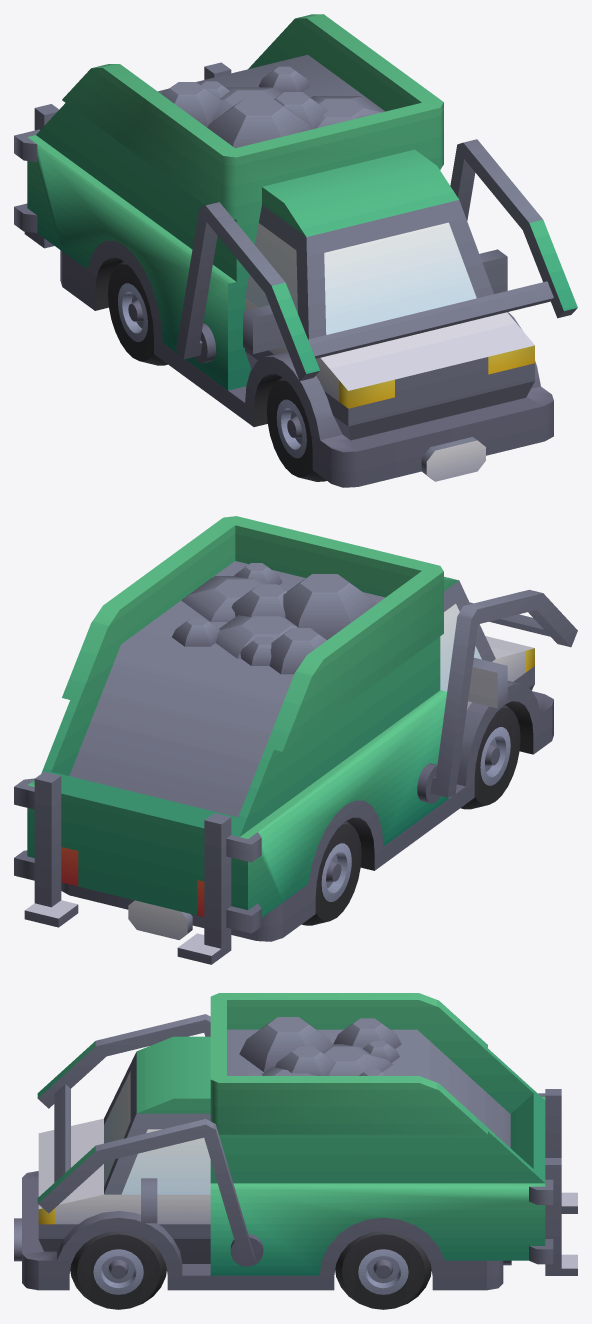
Rendered from kenney-garbage-truck.glb.
The picture shows the model from 3 angles, top to bottom: view 1: azimuth 30°, elevation 25°; view 2: azimuth 150°, elevation 25°; view 3: azimuth 270°, elevation 25°; orthographic projection. The views are drawn at different scales.
Parts seen in each view (by area): view 1: arm; view 2: arm; view 3: arm.
Boxes of the visible parts, bbox=[...] form: arm: bbox=[14, 14, 577, 487]; arm: bbox=[14, 516, 577, 964]; arm: bbox=[14, 993, 577, 1309].
Bounding box in the file's own units: 1.6 × 1.6 × 3.45.
Materials: 1 (1 with a texture image).
